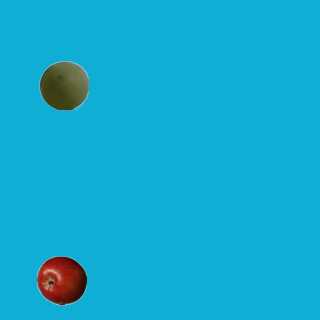Apple Braeburn: (36, 255, 86, 305)
Grape White 4: (38, 60, 88, 110)
